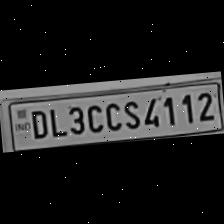1: (159, 93, 179, 126), (176, 92, 194, 125)
2: (192, 88, 218, 124)
3: (64, 102, 86, 137)
4: (138, 94, 162, 129)
C: (102, 98, 123, 132), (83, 100, 104, 133)
D: (26, 106, 49, 140)
L: (46, 104, 66, 138)
S: (120, 97, 140, 130)
